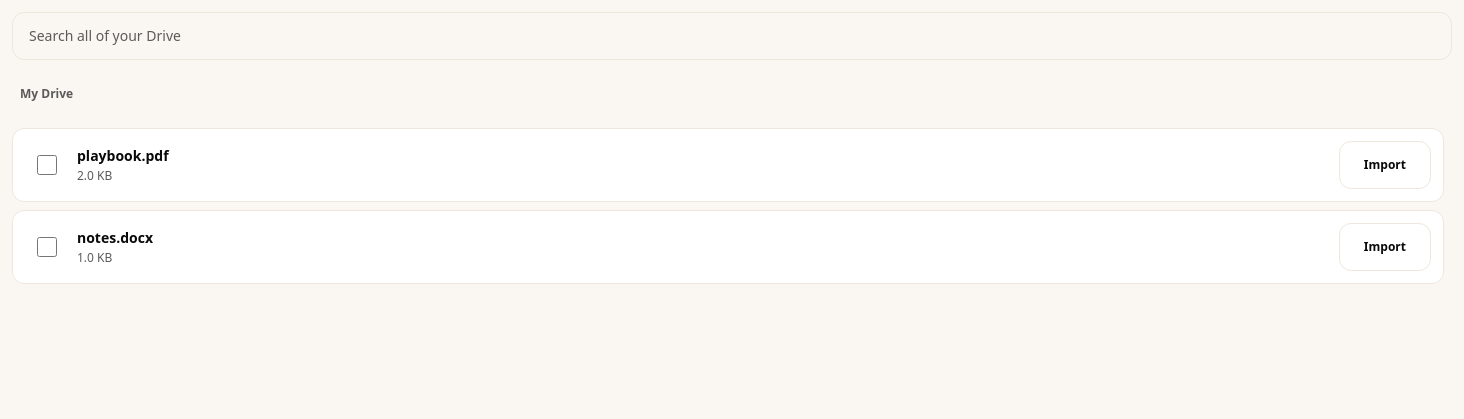
Scenario: GoogleDrivePicker › continues a batch after one file fails and names the failure
Click the checkbox named "Select playbook.pdf" at (47, 165), box [37,155,57,175]
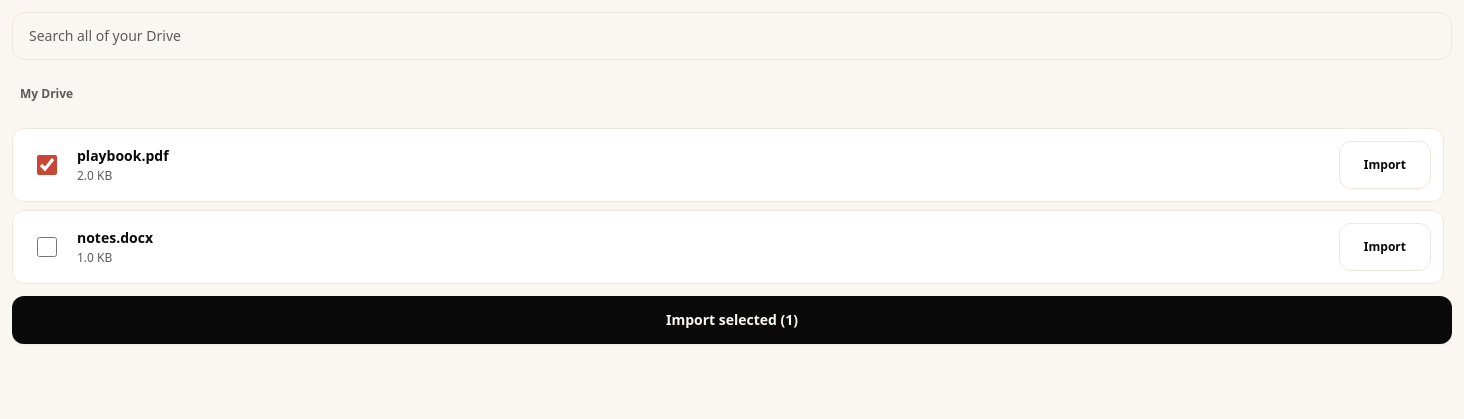
Click the checkbox named "Select notes.docx" at (47, 247), box [37,237,57,257]
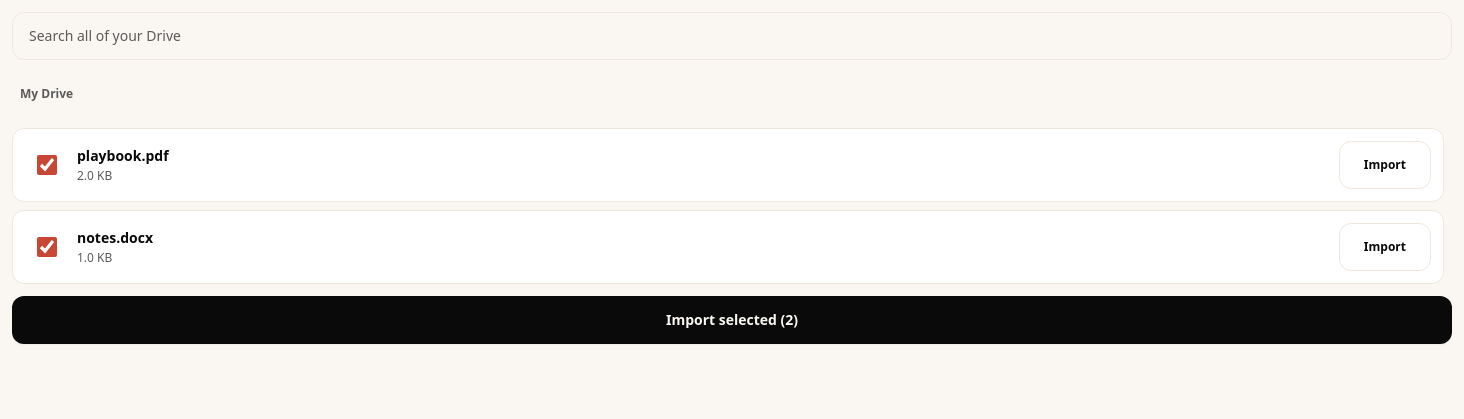
Click the button "Import selected (2)" at (732, 320), box [12,296,1452,344]
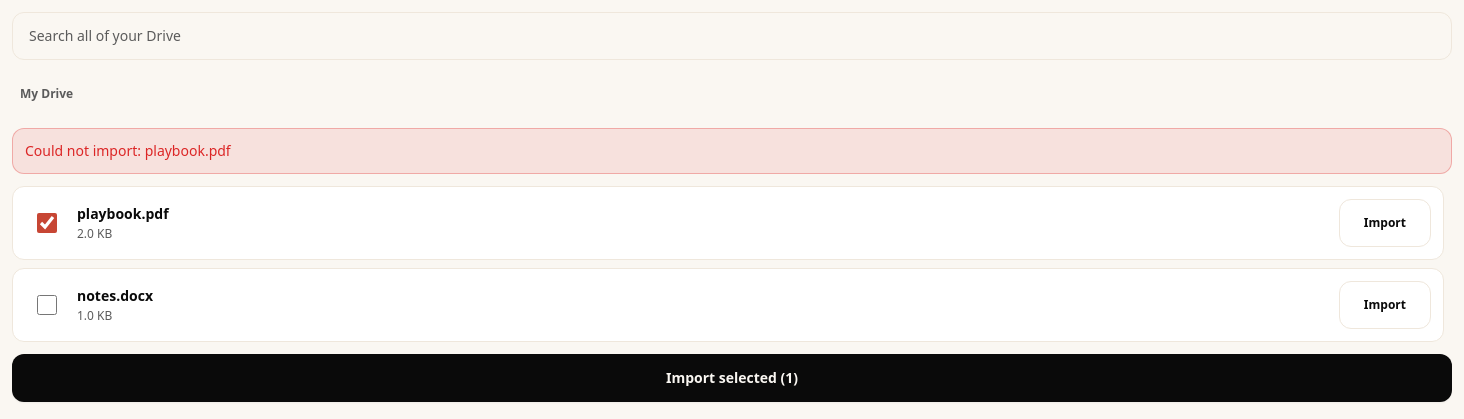
Expected: the text "Could not import: playbook.pdf" is shown, [12,128,1452,174]
